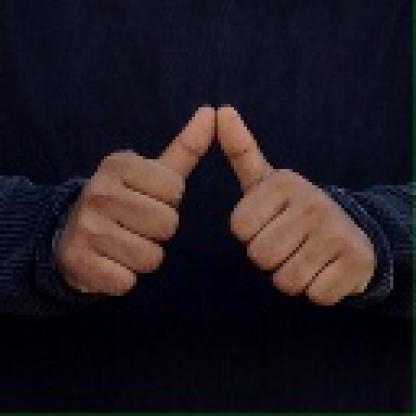A: (57, 98, 372, 306)
